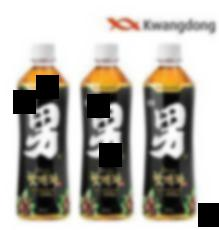heotgaecha: (16, 42, 71, 221), (143, 43, 197, 220), (81, 42, 134, 220)
